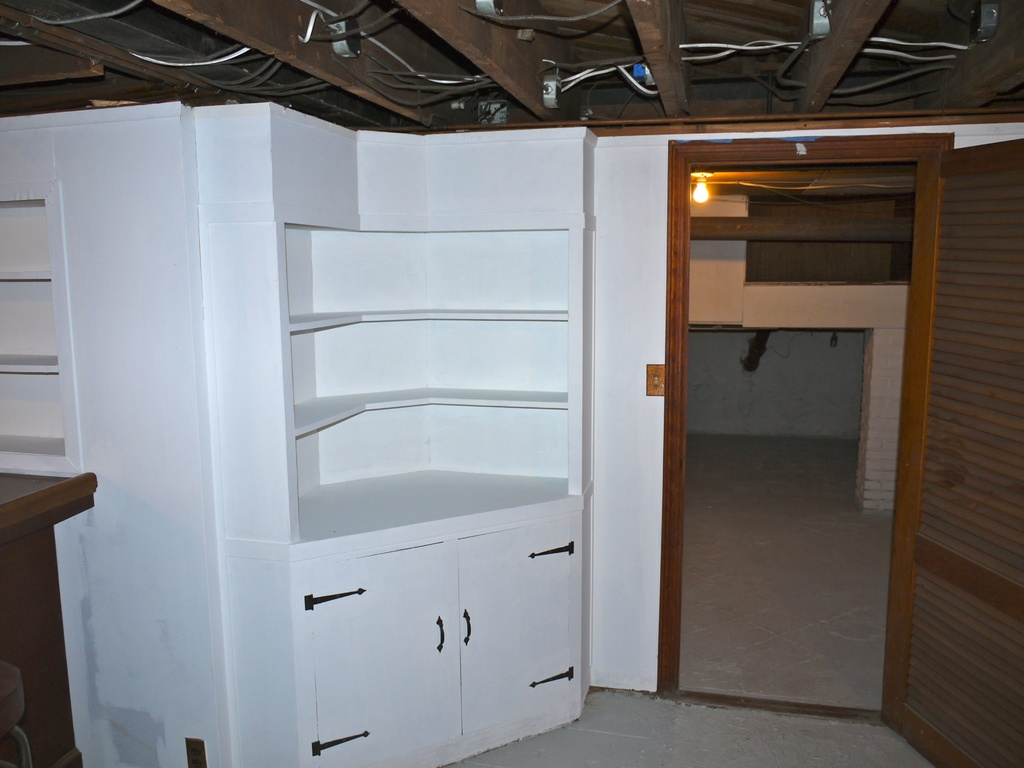cabinet door: (314, 575, 456, 737), (464, 548, 567, 691)
door: (923, 170, 1024, 746)
handle: (461, 610, 474, 647), (437, 617, 447, 655)
